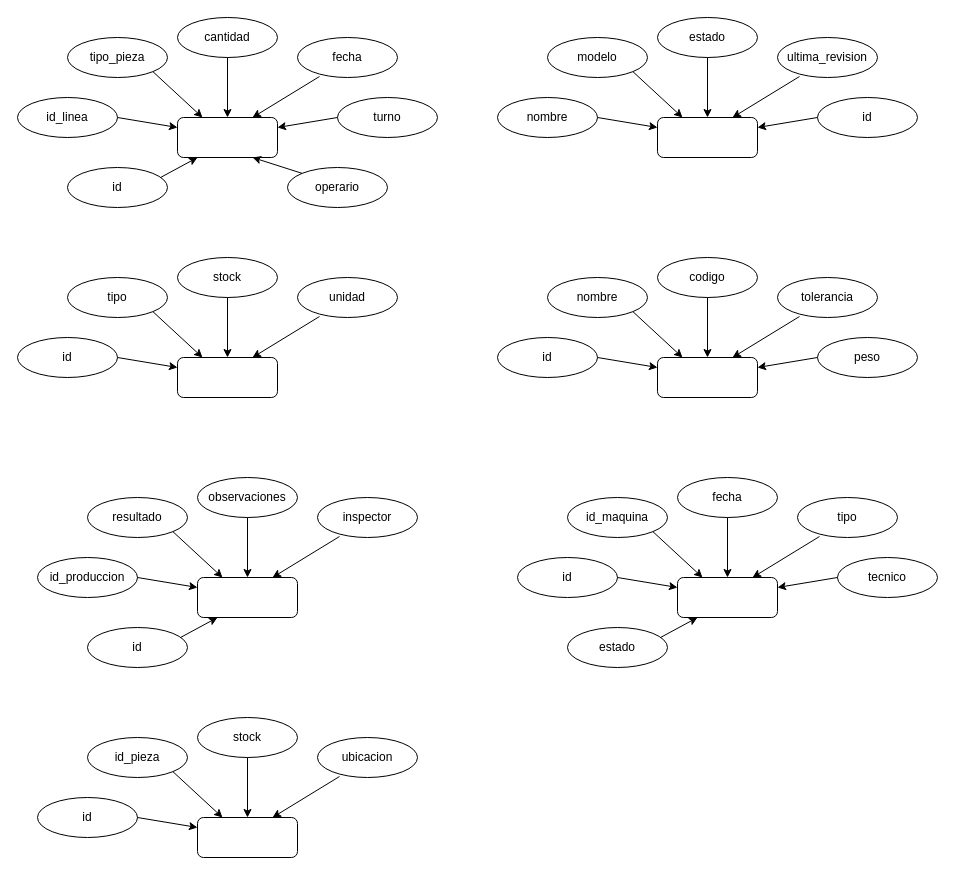
Image size: 955x875. Some labels were removed from this diagram. Here are the shapes that lost their labels. From the top down, the centre of each, then its label:
the point at 227,137: Produccion
the point at 707,137: maquinas
the point at 227,377: materiales
the point at 707,377: piezas
the point at 247,597: calidad
the point at 727,597: mantenimiento
the point at 247,837: inventario
